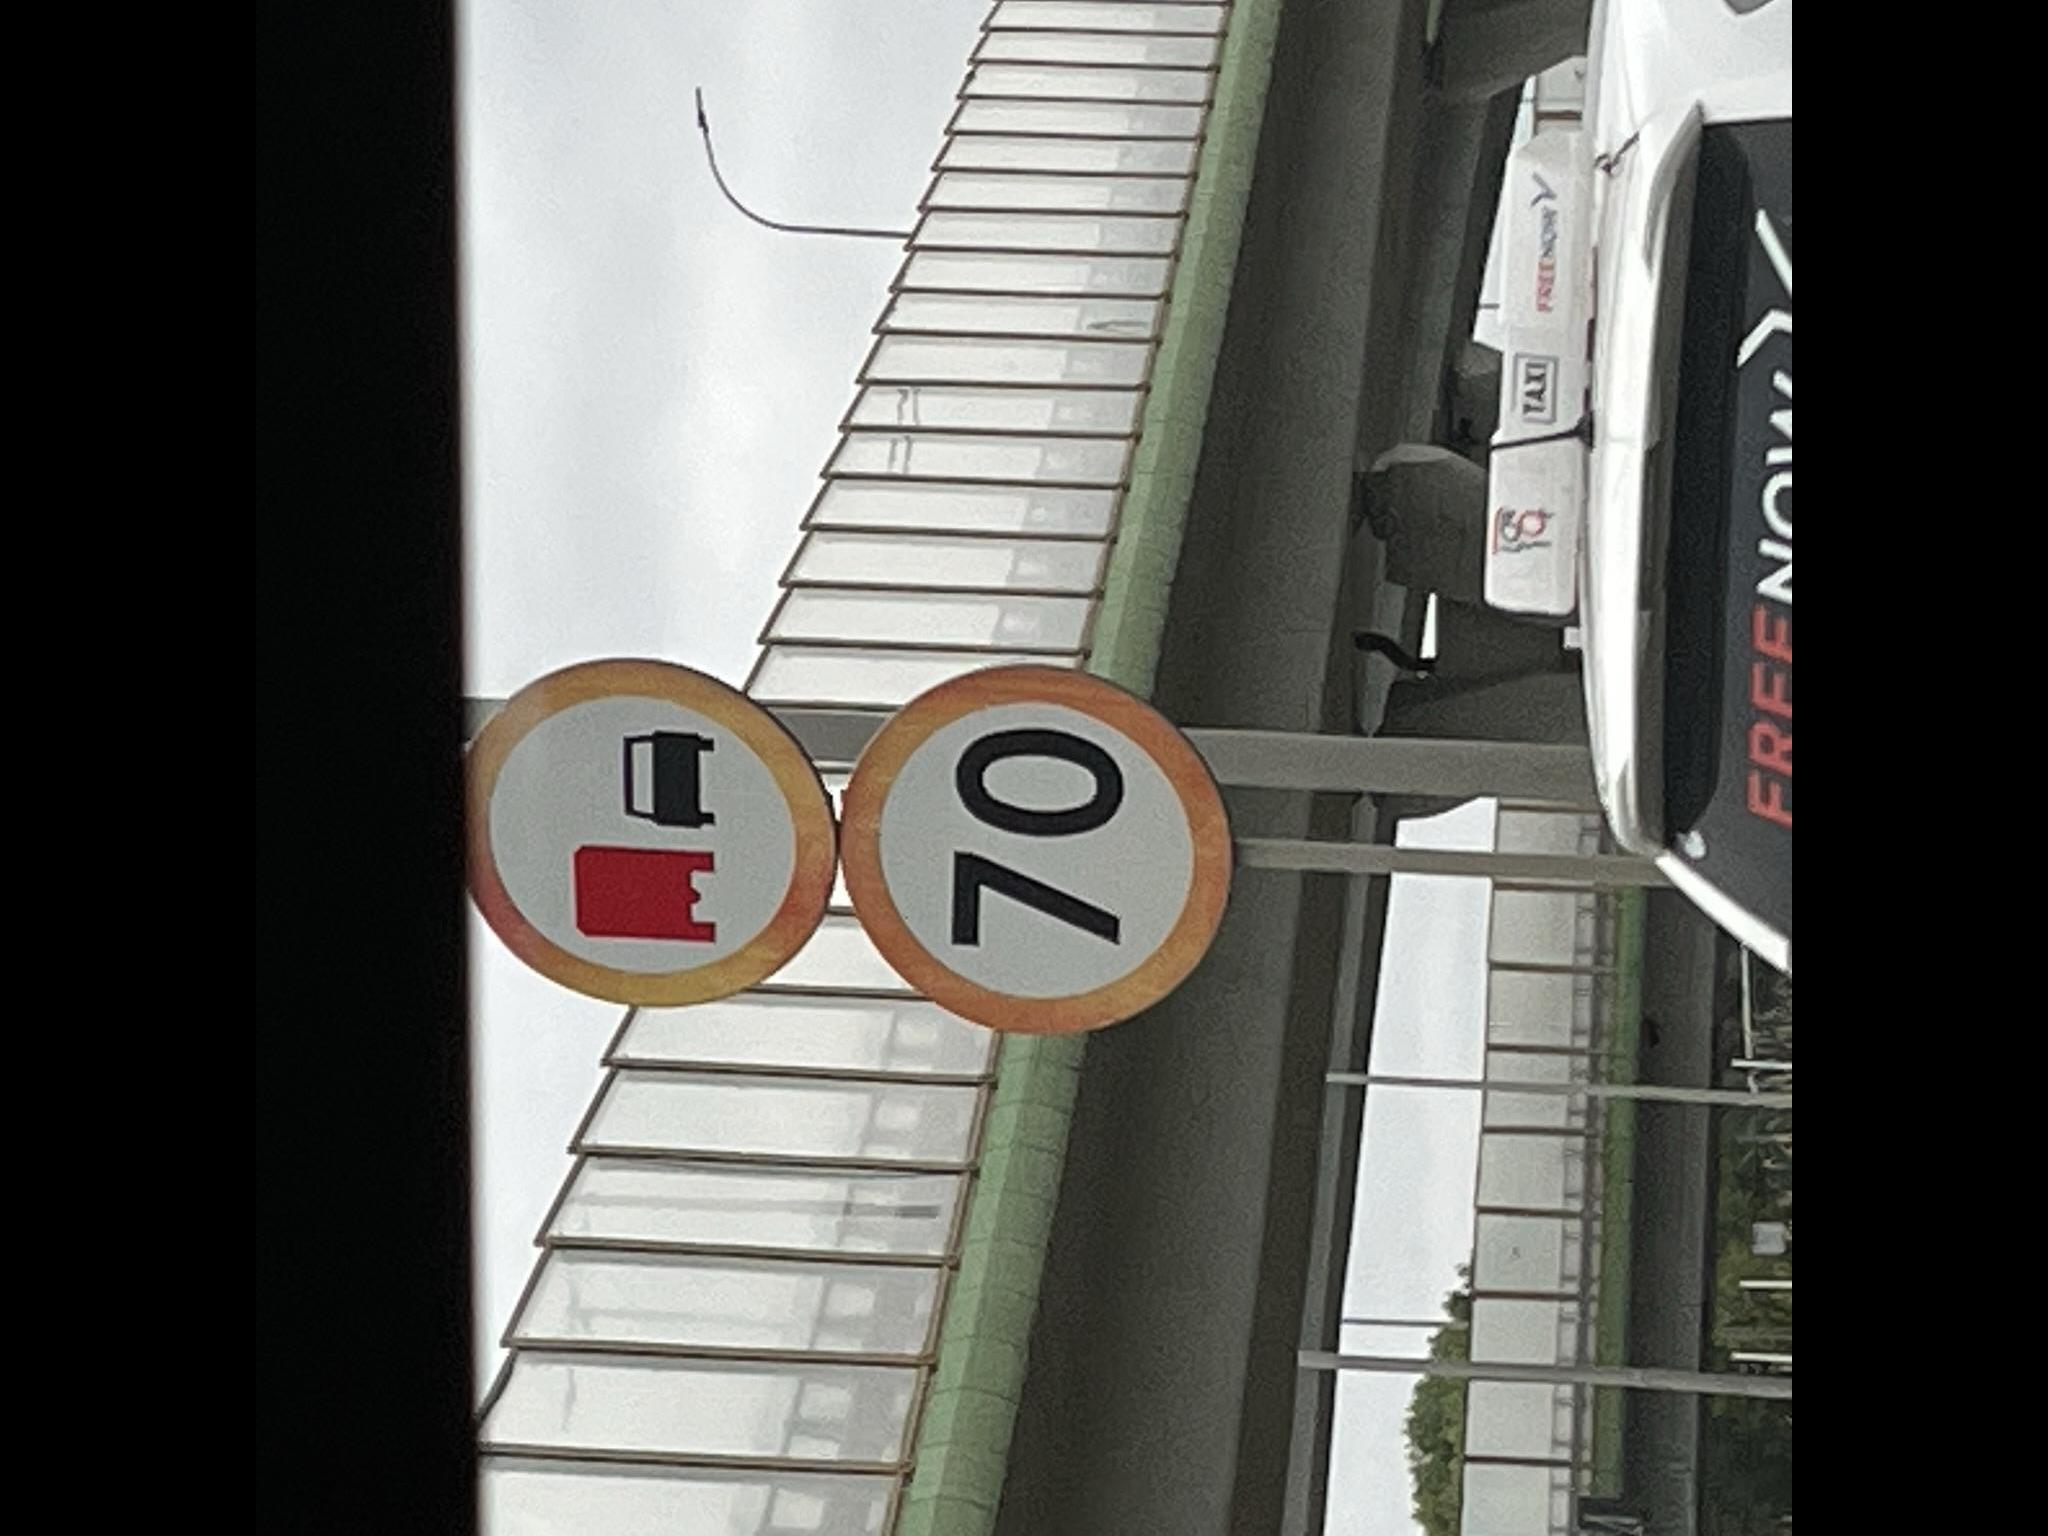prohibitory: (836, 660, 1240, 1036), (468, 654, 836, 1010)
